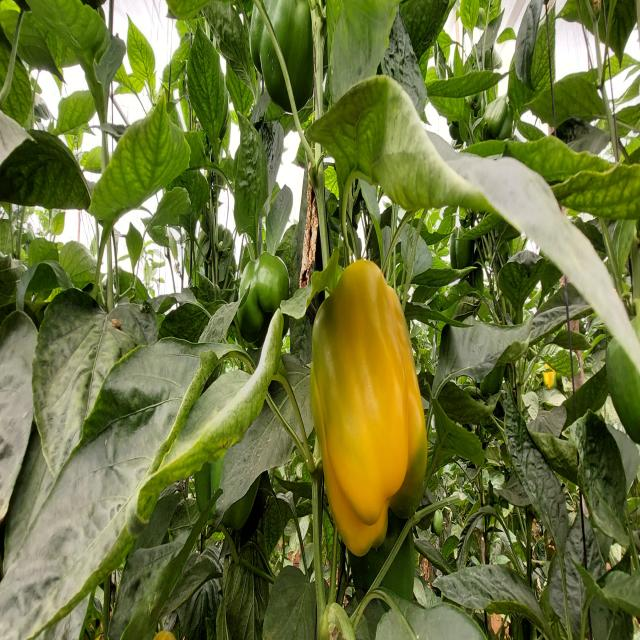Yellow-Ready-to-Harvest: (309, 262, 425, 554)
